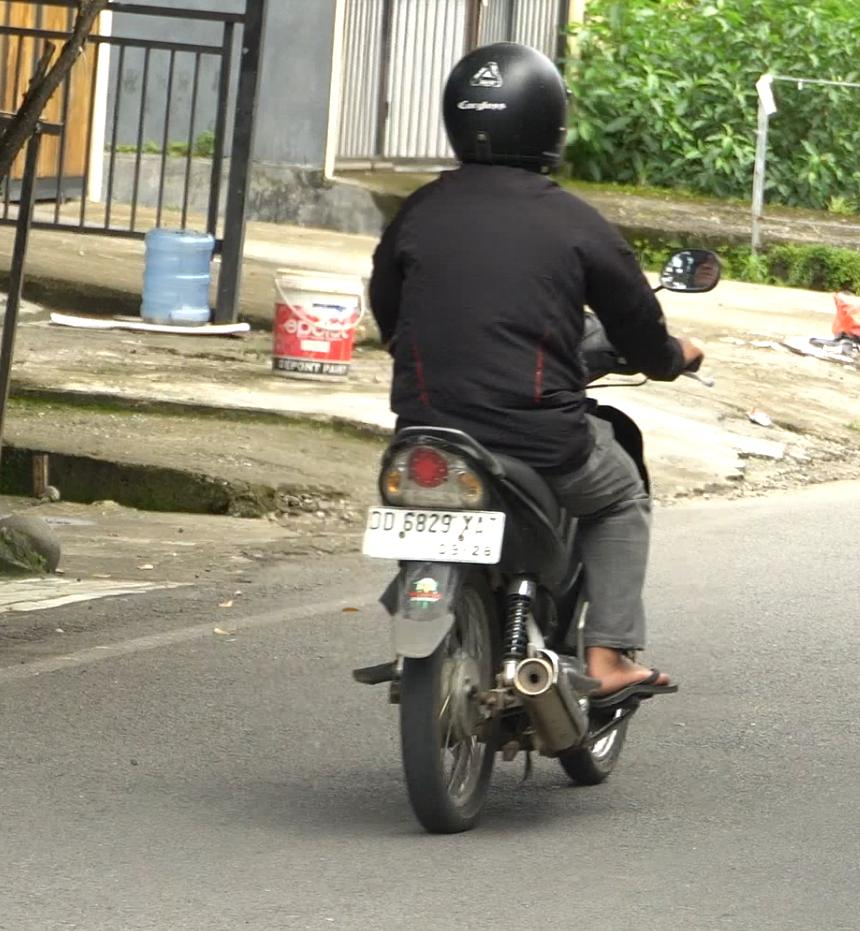number-plate: (361, 509, 508, 568)
